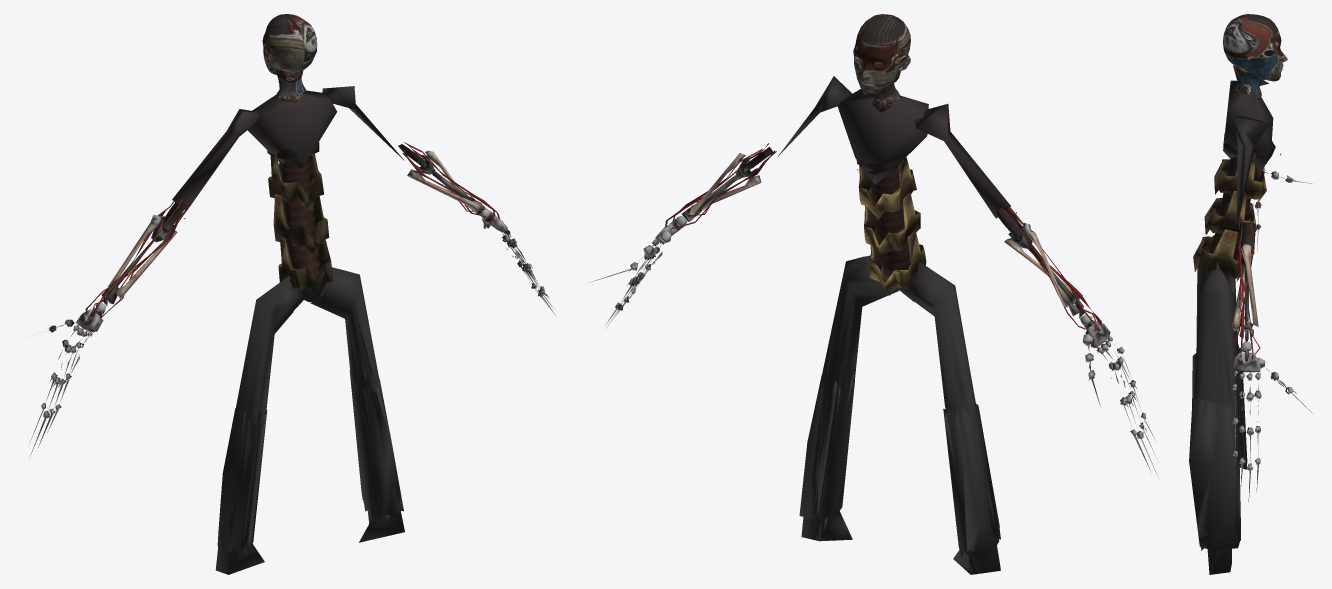
3 renders of one model, left to right at view 1: azimuth 30°, elevation 25°; view 2: azimuth 150°, elevation 25°; view 3: azimuth 270°, elevation 25°, orthographic. The views are drawn at different scales.
Visible parts, largest first — view 1: Player2, Player13, Player7, Player14, Player8, Player15, Player10, Player9, Player1, Player11, Player4, Player5 (+3 smaller); view 2: Player2, Player13, Player7, Player14, Player15, Player8, Player10, Player9, Player1, Player11, Player4, Player5 (+3 smaller); view 3: Player7, Player2, Player8, Player15, Player5, Player4, Player3, Player1, Player13, Player6, Player14, Player11.
Part boxes in pixels (x1,y1,x2,y2): Player2: (247,85,338,255); Player13: (217,398,267,557); Player7: (349,367,403,519); Player14: (238,275,302,415); Player8: (309,269,379,387); Player15: (262,14,317,96); Player10: (158,109,256,236); Player9: (86,211,178,318); Player1: (278,241,340,301); Player11: (30,307,103,456); Player4: (407,152,501,227); Player5: (322,86,433,175); Player2: (837,88,929,258); Player13: (943,390,1000,556); Player7: (799,365,855,524); Player14: (900,262,973,411); Player15: (853,14,910,102); Player8: (822,256,898,383); Player10: (914,104,1023,237); Player9: (1004,223,1100,329); Player1: (864,238,926,295); Player11: (1083,319,1158,474); Player4: (666,153,760,235); Player5: (735,76,845,182); Player7: (1189,392,1240,550); Player2: (1204,78,1281,245); Player8: (1193,270,1237,408); Player15: (1223,14,1287,94); Player5: (1233,116,1269,270); Player4: (1232,244,1260,361); Player3: (1232,353,1312,501); Player1: (1193,230,1242,281); Player13: (1192,345,1247,469); Player6: (1207,548,1231,574); Player14: (1196,265,1238,348); Player11: (1249,168,1313,250).
Size of the model in its own units: 6.4 by 6.04 by 1.37.
Materials: 1 (1 with a texture image).
